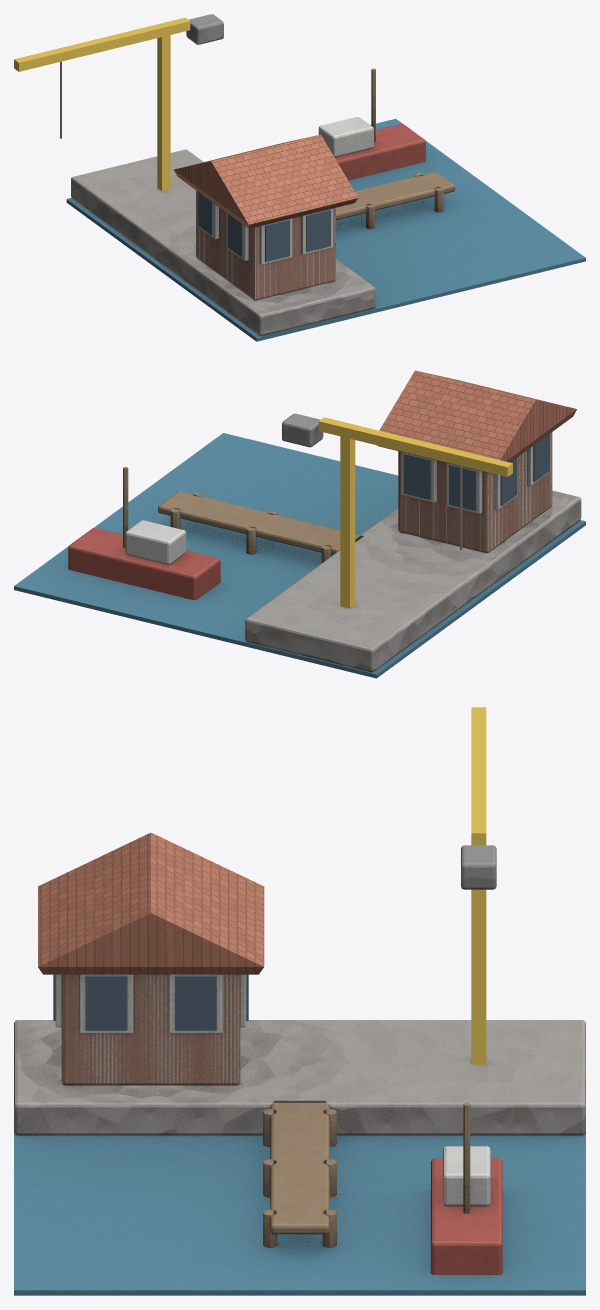
Rendered from hafen.glb.
3 renders of one model, top to bottom at view 1: azimuth 30°, elevation 25°; view 2: azimuth 150°, elevation 25°; view 3: azimuth 270°, elevation 25°, orthographic. The views are drawn at different scales.
Visible parts, largest first — view 1: hafen, hafen_details; view 2: hafen, hafen_details; view 3: hafen, hafen_details.
Boxes of the visible parts, box(x1,y1,x2,y2) form: hafen: box(66, 14, 585, 341); hafen_details: box(14, 17, 330, 261); hafen: box(14, 370, 585, 678); hafen_details: box(318, 417, 549, 608); hafen: box(14, 832, 585, 1295); hafen_details: box(53, 707, 486, 1064).
Size of the model in its own units: 1.21 by 0.525 by 0.96.
Materials: 4 (1 with a texture image).
